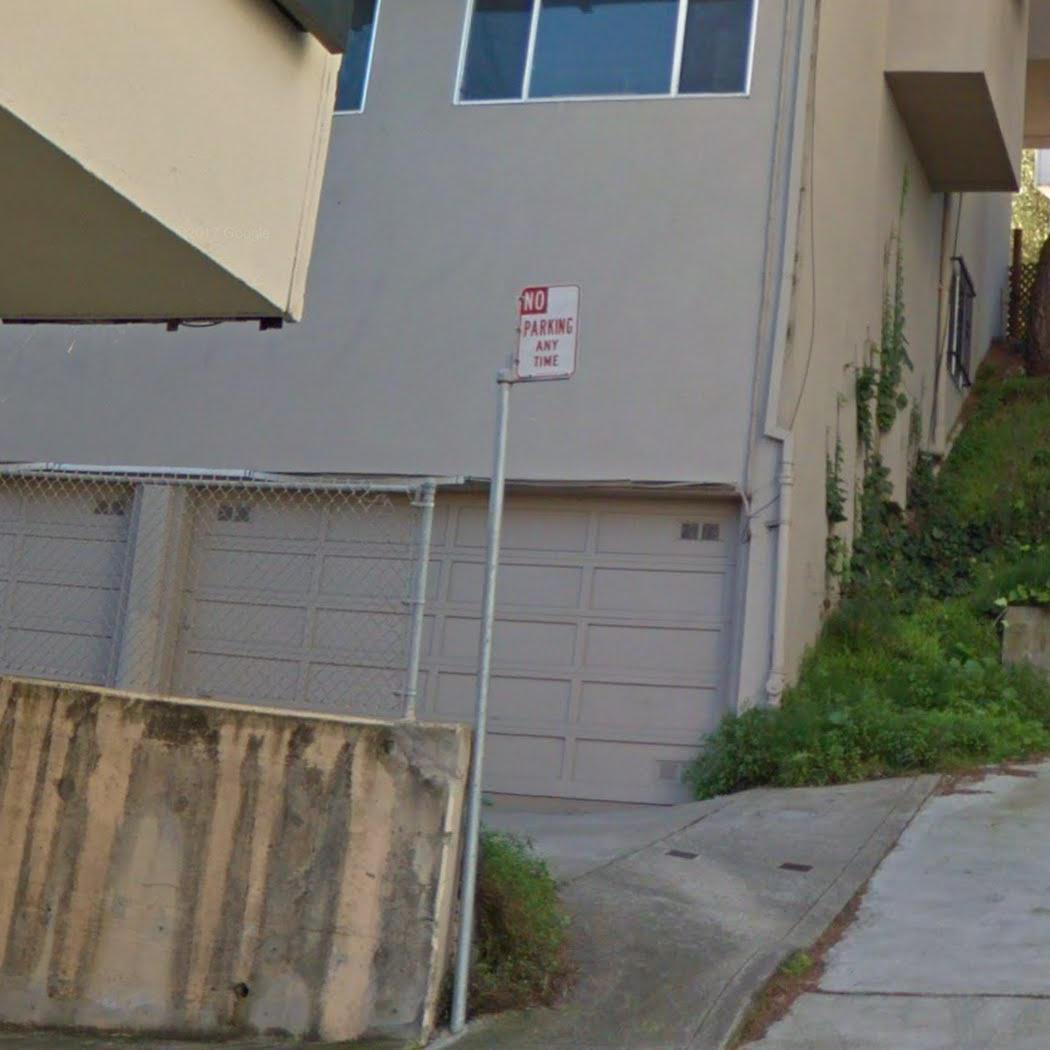No Parking Anytime: (511, 279, 585, 385)
